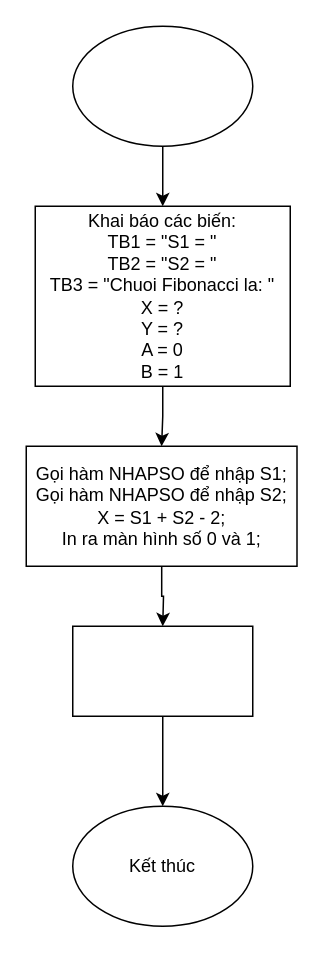
Image size: 324x953. Some labels were removed from this diagram. The shapes that lost their labels are listed below. From the top down, each one's centre as x and y in pixels, then its label:
At (162,85): "Bắt đầu".
At (162,670): "Gọi hàm Fibonacci".
